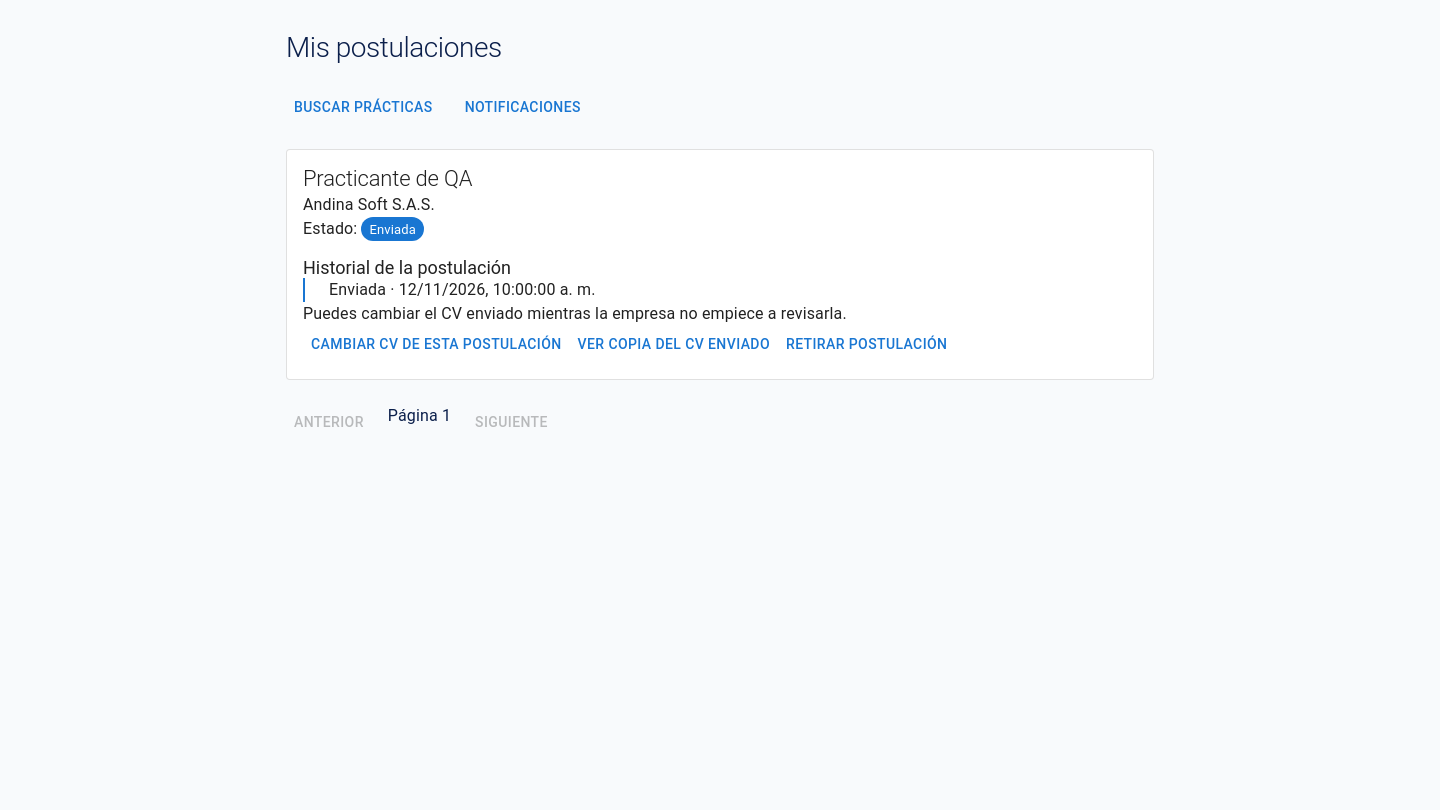
Test: MisPostulaciones › retirar con error y luego con éxito: el aviso se va y se ve el nuevo estado
Click the button "Retirar postulación".
click(867, 345)  # box [778,326,956,363]
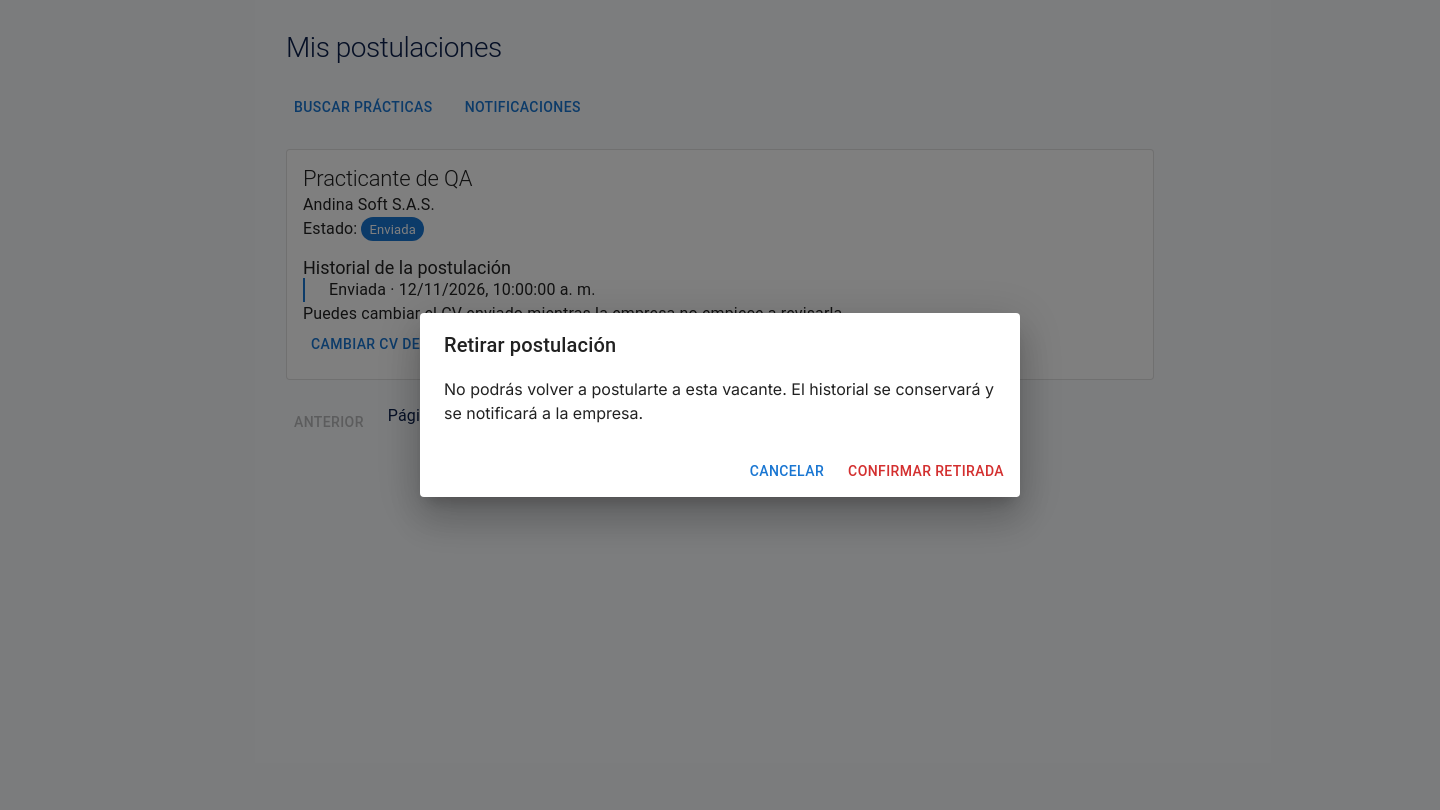
Click the button "Confirmar retirada".
click(926, 471)  # box [840,453,1012,489]
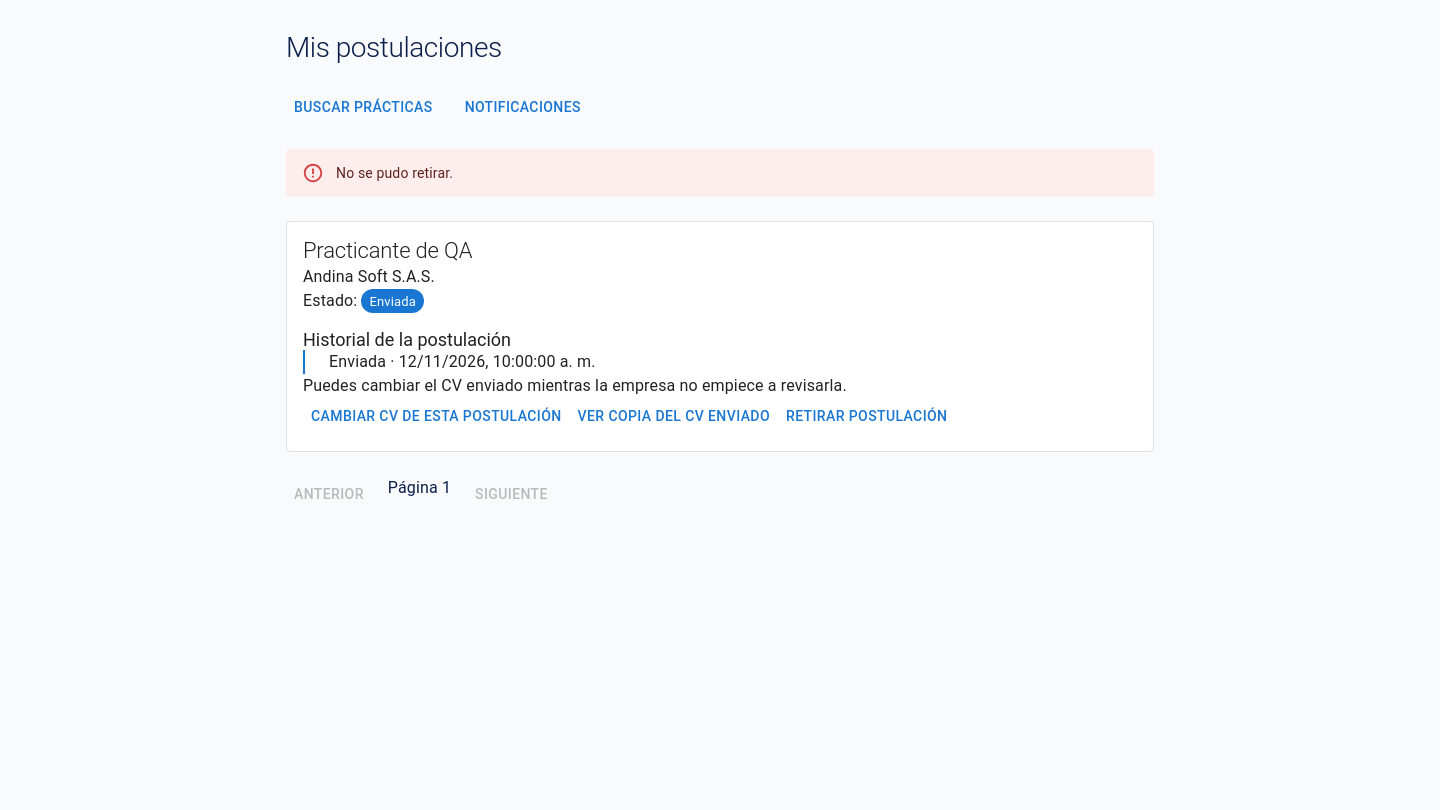
Expected: the message reads "No se pudo retirar.", [336,165,453,181]
Click the button "Retirar postulación".
click(867, 417)  # box [778,398,956,435]
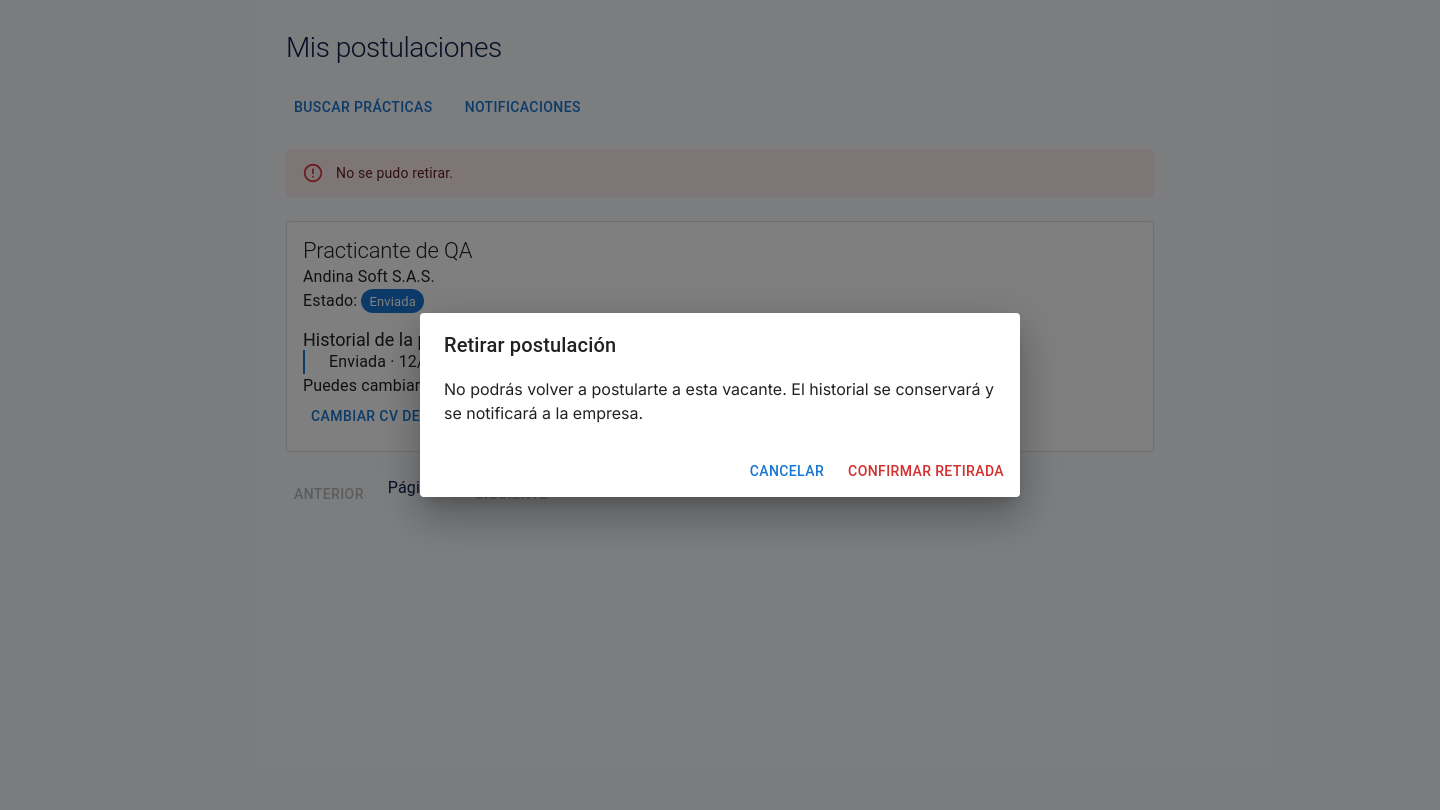
Click the button "Confirmar retirada".
click(926, 471)  # box [840,453,1012,489]
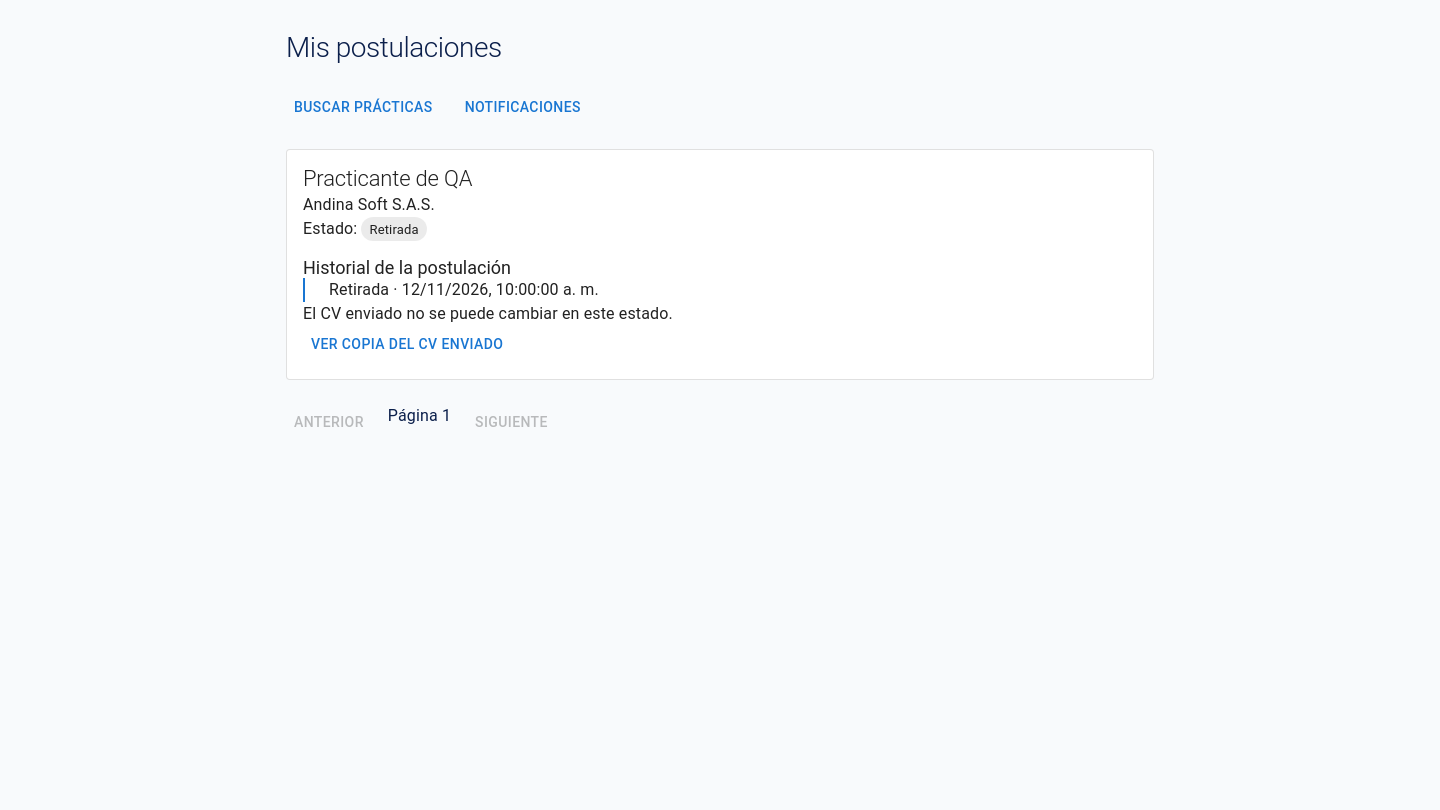
Expected: the text "Retirada" is shown, [370,222,419,237]
Expected: the message "No se pudo retirar." is gone
